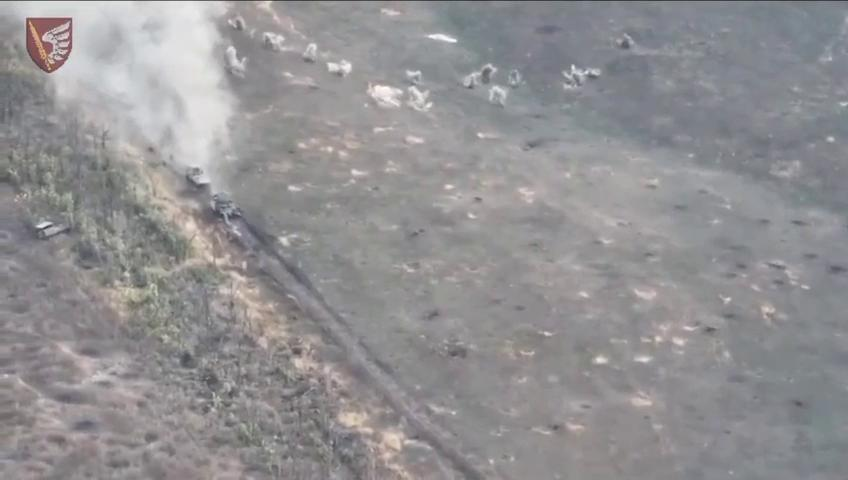tank: (206, 188, 249, 230), (178, 161, 214, 189)
